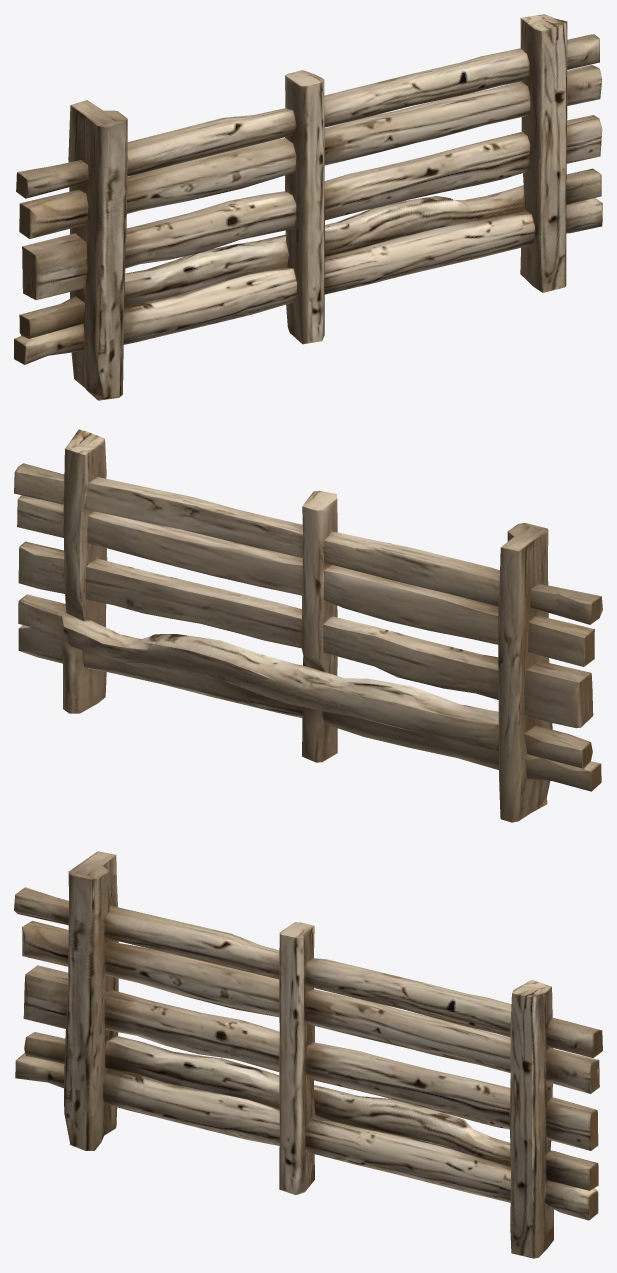
File: farmFence.glb
The picture shows the model from 3 angles, top to bottom: view 1: azimuth 30°, elevation 25°; view 2: azimuth 150°, elevation 25°; view 3: azimuth 330°, elevation 25°; orthographic projection.
Parts seen in each view (by area): view 1: model; view 2: model; view 3: model.
Boxes of the visible parts, left/top/right/bottom form: model: left=14, top=14, right=602, bottom=400; model: left=14, top=429, right=602, bottom=822; model: left=14, top=851, right=602, bottom=1258.
Size of the model in its own units: 1.89 by 0.8621 by 0.1941.
1 material, 1 textured.
